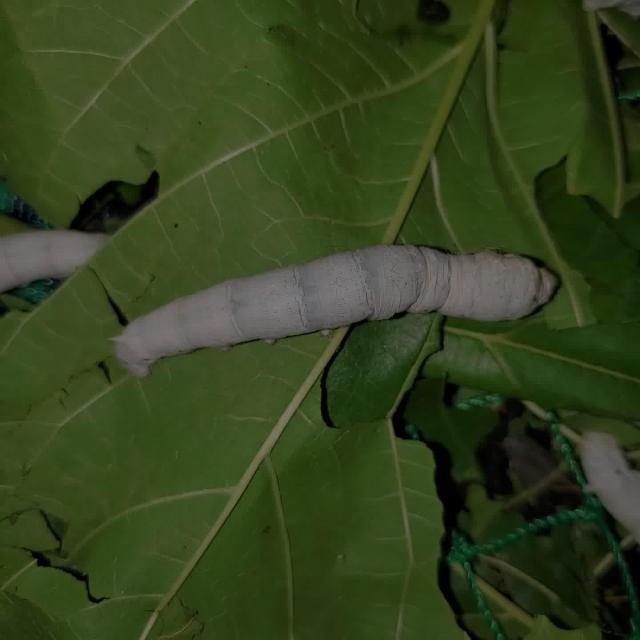Healthy: (95, 232, 599, 390)
